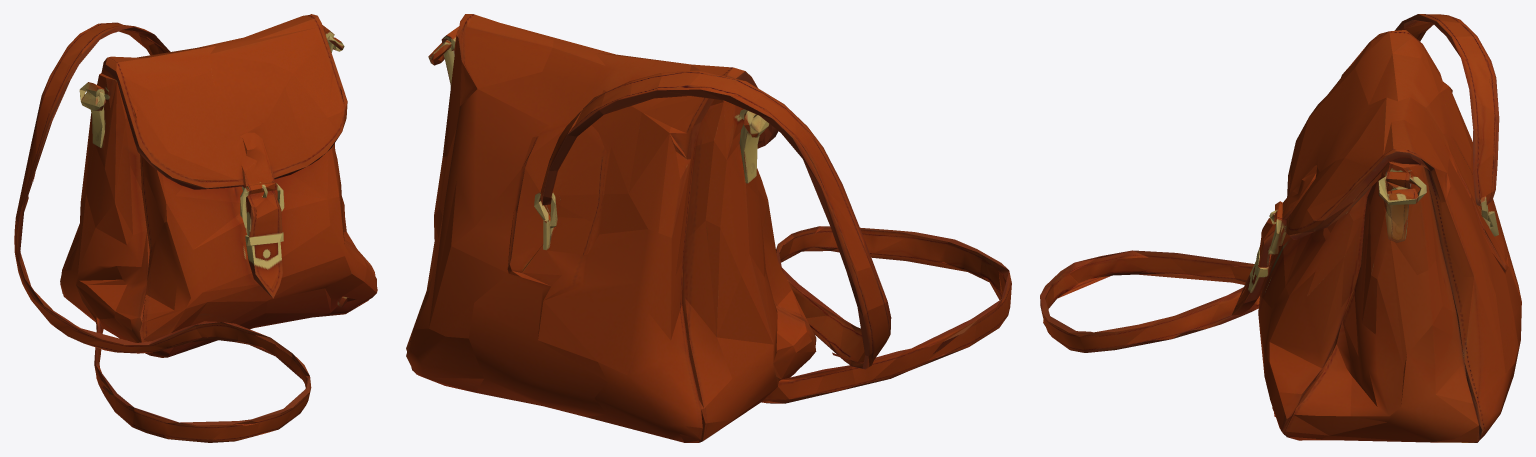
File: satchel.glb
3 renders of one model, left to right at view 1: azimuth 30°, elevation 25°; view 2: azimuth 150°, elevation 25°; view 3: azimuth 270°, elevation 25°, orthographic. The views are drawn at different scales.
Size of the model in its own units: 1.75 by 1.37 by 1.89.
1 material, 1 textured.
